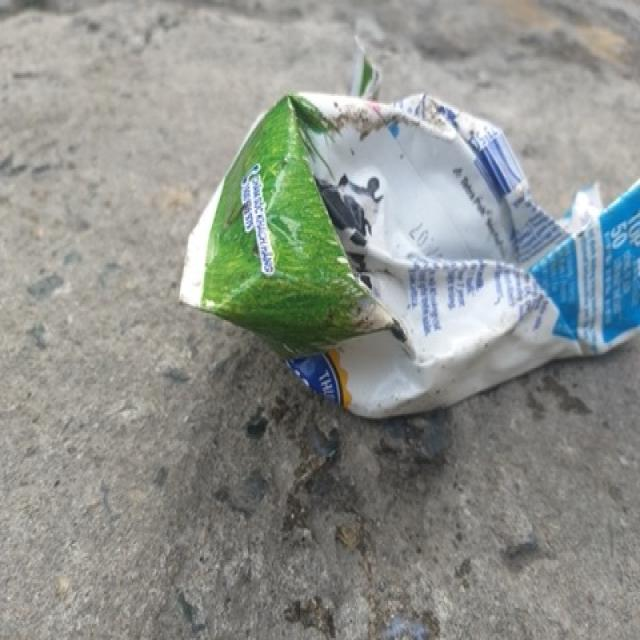PaperCardboard: (179, 45, 640, 420)
